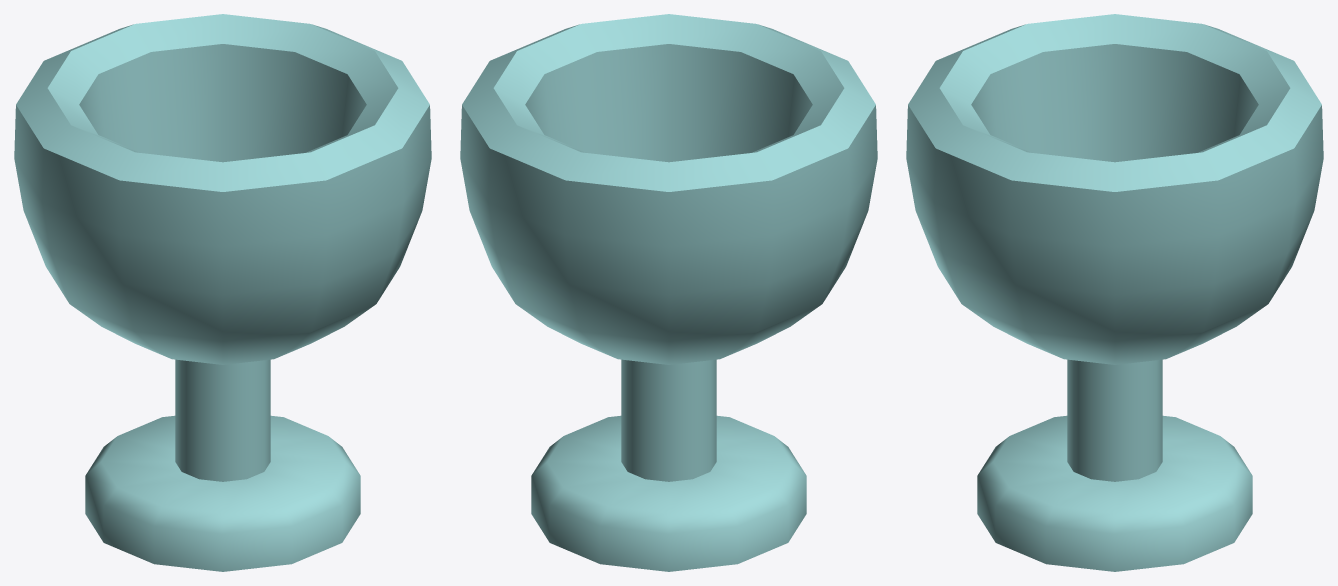
Rendered from itch_tiny_pleasant_picnic_wine_glass.glb.
3 views of the same model, side by side, from view 1: azimuth 30°, elevation 25°; view 2: azimuth 150°, elevation 25°; view 3: azimuth 270°, elevation 25° (orthographic).
Visible parts, largest first — view 1: wine_glass; view 2: wine_glass; view 3: wine_glass.
Boxes of the visible parts, left/top/right/bottom form: wine_glass: left=14, top=14, right=431, bottom=571; wine_glass: left=460, top=14, right=877, bottom=571; wine_glass: left=906, top=14, right=1323, bottom=571.
Size of the model in its own units: 0.42 by 0.4725 by 0.42.
